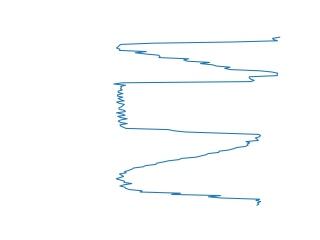distributaryChannelFill: (109, 71, 264, 142)
mouthBar: (114, 35, 284, 77)
underwaterDistributaryChannel: (114, 137, 263, 207)
